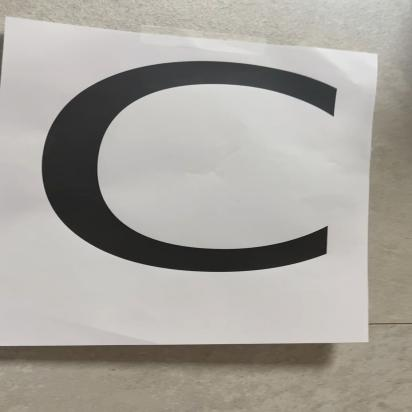seat: (4, 29, 375, 339)
